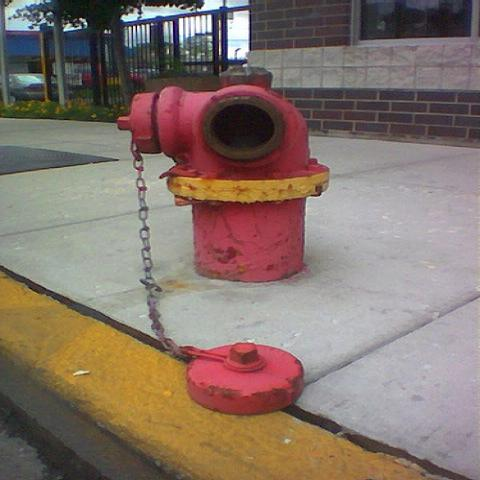car: (9, 73, 59, 104)
